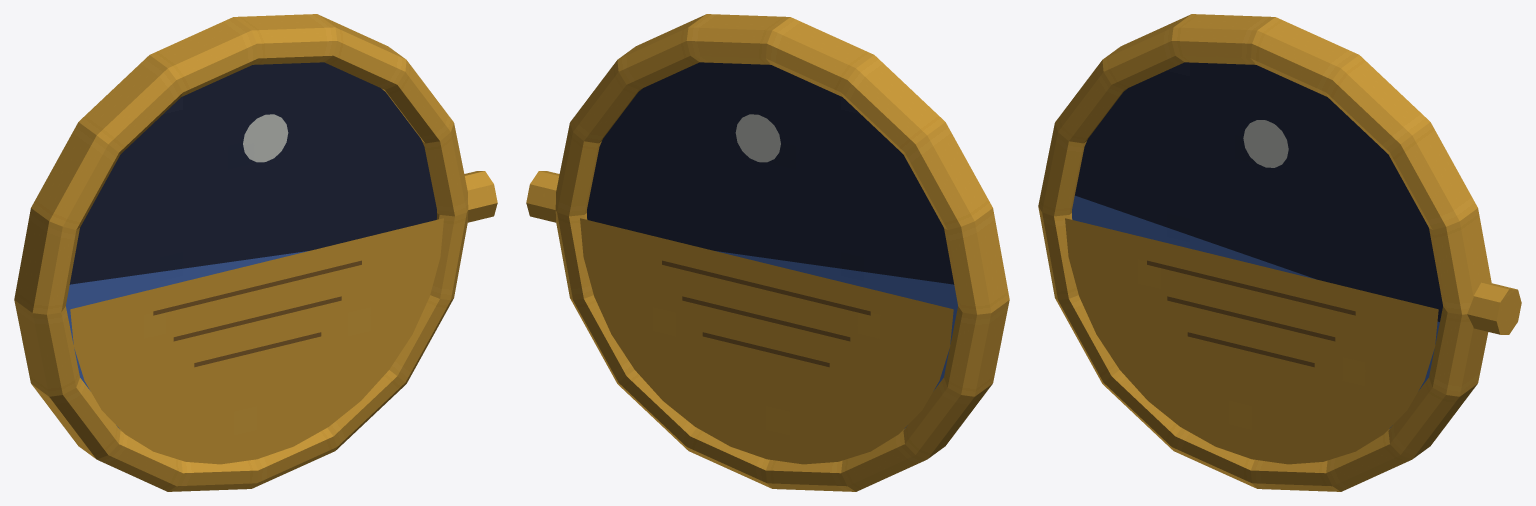
Rendered from clock_33.obj.
3 views of the same model, side by side, from view 1: azimuth 30°, elevation 25°; view 2: azimuth 150°, elevation 25°; view 3: azimuth 330°, elevation 25° (orthographic).
Size of the model in its own units: 0.6363 by 0.6037 by 0.075.
